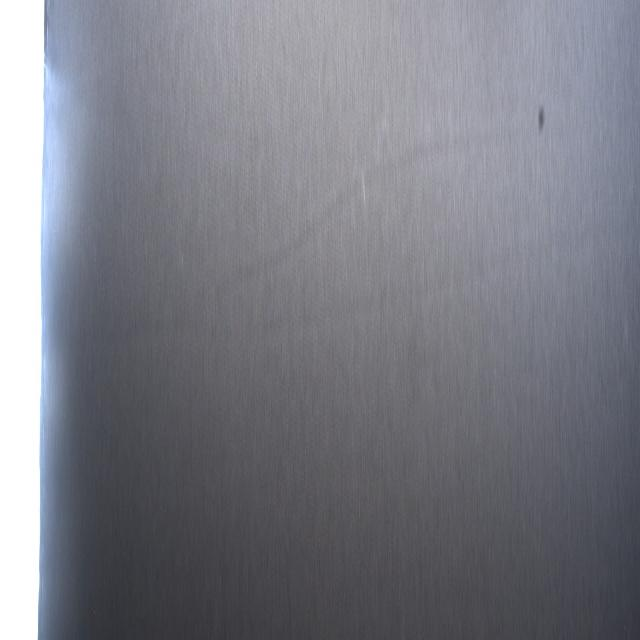crease: (177, 142, 486, 298), (195, 241, 568, 340)
